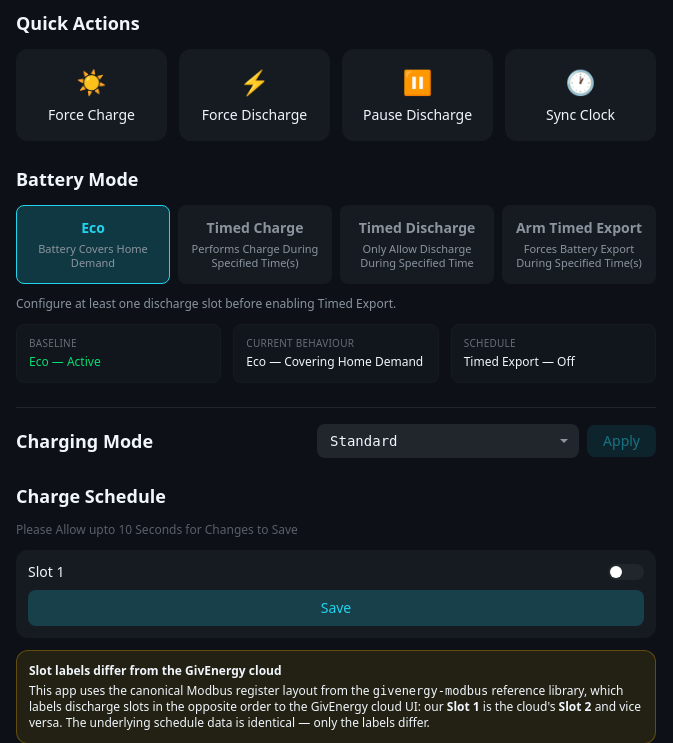
Scenario: <ControlPage/> — connection-state gate › reports when Force Charge is not confirmed by the inverter
The image size is (673, 743).
Click the button "☀️ Force Charge" at (92, 95), box [16, 49, 167, 140]
Wait 30000 ms
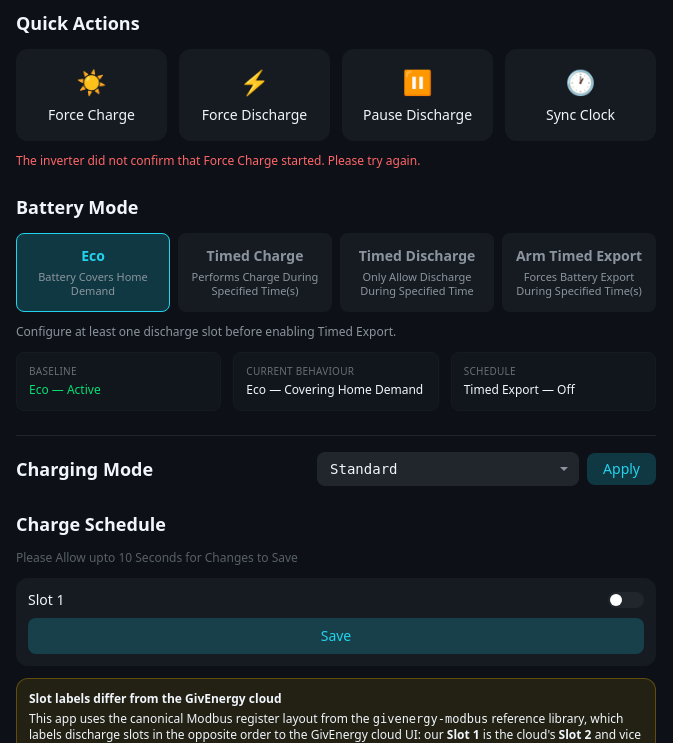
Expected: the button "⚡ Force Discharge" is enabled, [179, 49, 330, 140]
Expected: the message "The inverter did not confirm that Force Charge started. Please try again." is shown, [16, 152, 420, 168]
